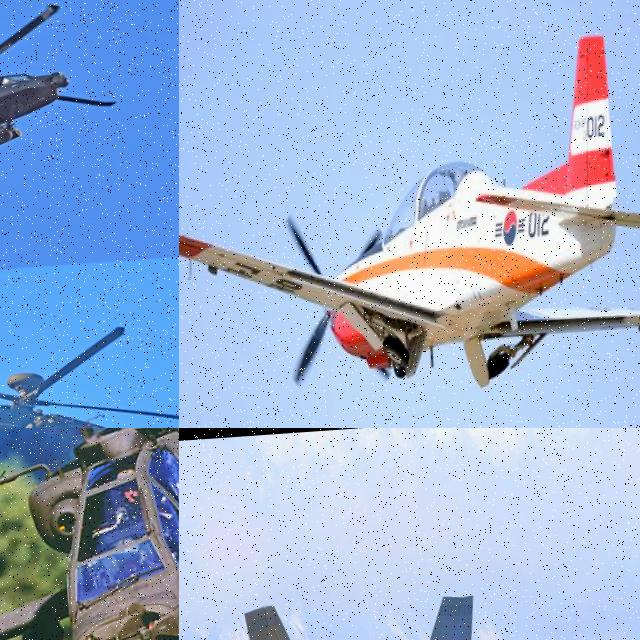Apache: (0, 428, 179, 640), (0, 1, 125, 208), (0, 313, 179, 428)
F22: (179, 566, 640, 640)
KT-1: (179, 27, 640, 404)
